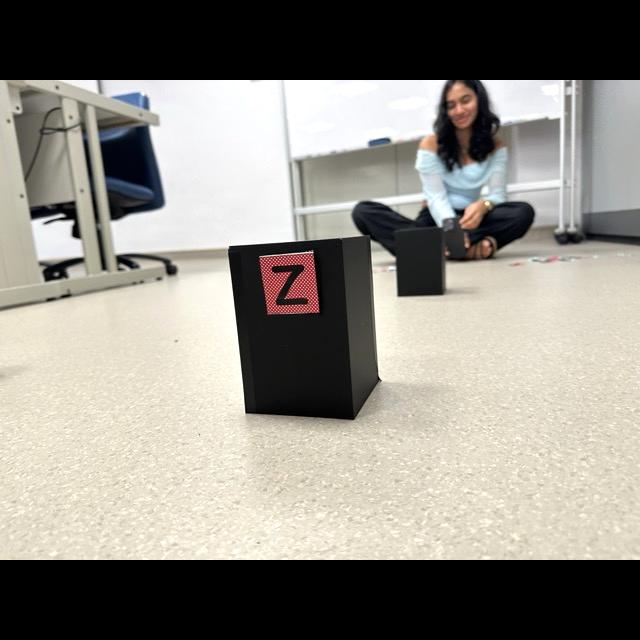Z: (272, 265, 308, 305)
